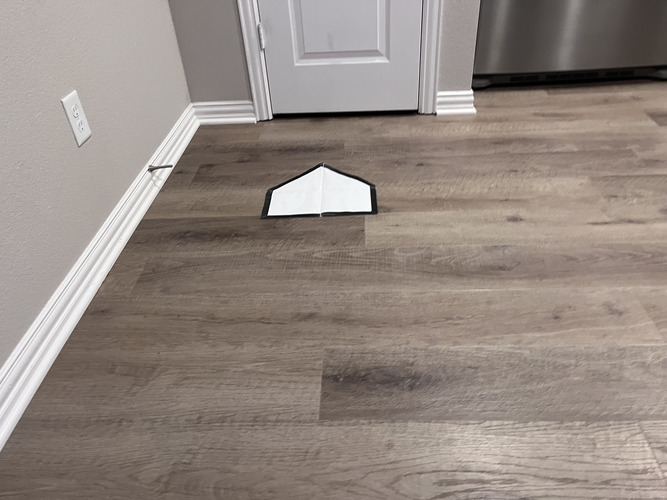homeplate: (256, 162, 378, 221)
